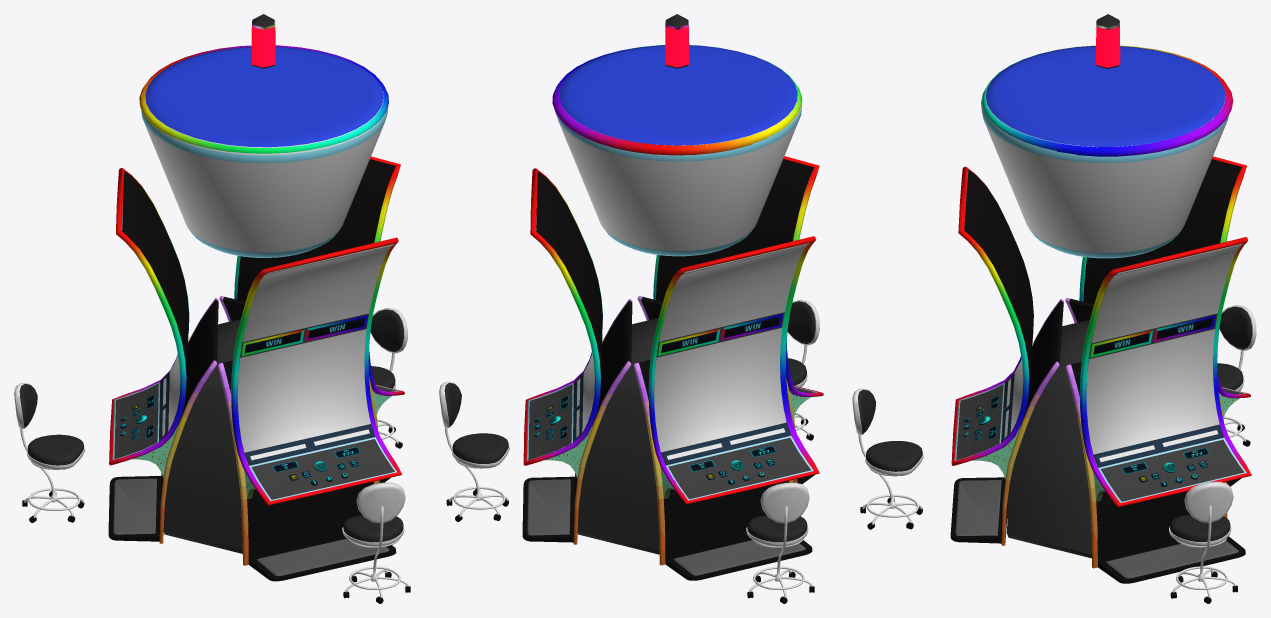
File: SlotAutomatTrheeIsland.fbx
3 views of the same model, side by side, from view 1: azimuth 30°, elevation 25°; view 2: azimuth 150°, elevation 25°; view 3: azimuth 270°, elevation 25° (orthographic).
Parts seen in each view (by area): view 1: Cylinder.018, Cone.007, Cylinder.019, Cone.001, Cylinder.012, SlotMashine1.007, GameChair.015, GameChair.014, SlotMashine1.008, UVScrollIsland.001, GameChair.013, SlotMashine1.009; view 2: Cylinder.019, Cone.007, Cylinder.012, Cone.001, Cylinder.018, SlotMashine1.008, GameChair.014, GameChair.013, UVScrollIsland.001, SlotMashine1.009, GameChair.015, SlotMashine1.007; view 3: Cylinder.012, Cone.007, Cylinder.018, Cone.001, Cylinder.019, SlotMashine1.009, GameChair.013, GameChair.015, UVScrollIsland.001, SlotMashine1.007, GameChair.014, SlotMashine1.008.
Part boxes in pixels (x1=…): Cylinder.018: x1=217, y1=244, x2=396, y2=581; Cone.007: x1=141, y1=47, x2=388, y2=257; Cylinder.019: x1=108, y1=171, x2=218, y2=543; Cone.001: x1=163, y1=14, x2=275, y2=553; Cylinder.012: x1=219, y1=159, x2=399, y2=483; SlotMashine1.007: x1=231, y1=237, x2=402, y2=505; GameChair.015: x1=342, y1=482, x2=410, y2=603; GameChair.014: x1=14, y1=382, x2=85, y2=522; SlotMashine1.008: x1=109, y1=168, x2=189, y2=465; UVScrollIsland.001: x1=139, y1=45, x2=388, y2=153; GameChair.013: x1=370, y1=308, x2=407, y2=448; SlotMashine1.009: x1=234, y1=156, x2=404, y2=395; Cylinder.019: x1=633, y1=243, x2=813, y2=580; Cone.007: x1=556, y1=45, x2=802, y2=256; Cylinder.012: x1=522, y1=171, x2=632, y2=544; Cone.001: x1=577, y1=14, x2=689, y2=554; Cylinder.018: x1=637, y1=159, x2=817, y2=483; SlotMashine1.008: x1=648, y1=236, x2=819, y2=504; GameChair.014: x1=746, y1=482, x2=814, y2=603; GameChair.013: x1=439, y1=381, x2=509, y2=521; UVScrollIsland.001: x1=552, y1=45, x2=801, y2=155; SlotMashine1.009: x1=523, y1=168, x2=602, y2=465; GameChair.015: x1=787, y1=300, x2=819, y2=440; SlotMashine1.007: x1=653, y1=156, x2=823, y2=397; Cylinder.012: x1=1065, y1=243, x2=1246, y2=583; Cone.007: x1=981, y1=46, x2=1228, y2=258; Cylinder.018: x1=950, y1=169, x2=1063, y2=545; Cone.001: x1=1007, y1=14, x2=1120, y2=558; Cylinder.019: x1=1065, y1=159, x2=1246, y2=486; SlotMashine1.009: x1=1079, y1=237, x2=1251, y2=507; GameChair.013: x1=1169, y1=481, x2=1237, y2=603; GameChair.015: x1=852, y1=388, x2=923, y2=529; UVScrollIsland.001: x1=981, y1=45, x2=1233, y2=156; SlotMashine1.007: x1=951, y1=166, x2=1029, y2=465; GameChair.014: x1=1217, y1=305, x2=1256, y2=446; SlotMashine1.008: x1=1079, y1=156, x2=1250, y2=398.
Bounding box in the file's own units: 377 × 478 × 349.
Materials: 12 (6 with a texture image).
